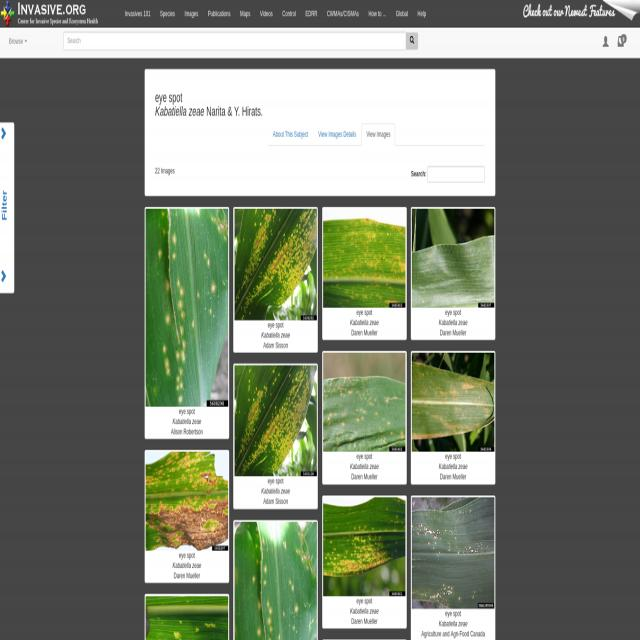button: (145, 207, 229, 438), (233, 207, 319, 352), (233, 364, 318, 508), (411, 496, 495, 640), (322, 207, 407, 341), (411, 208, 495, 340), (145, 451, 229, 583), (322, 496, 406, 628), (322, 353, 407, 483), (411, 353, 494, 484), (233, 520, 317, 640), (145, 594, 229, 640), (0, 0, 120, 27), (0, 123, 14, 292), (322, 0, 363, 27), (313, 123, 361, 146), (267, 123, 312, 146), (120, 0, 156, 27), (203, 0, 235, 27), (362, 123, 395, 146), (4, 27, 32, 54), (364, 0, 390, 27), (156, 0, 180, 27), (180, 0, 202, 27), (255, 0, 277, 27), (278, 0, 300, 27), (301, 0, 322, 27), (392, 0, 412, 27), (236, 0, 254, 27), (413, 0, 431, 27), (598, 28, 613, 58), (614, 28, 630, 56), (406, 32, 418, 50)
field: (64, 32, 406, 50), (427, 166, 485, 182)
